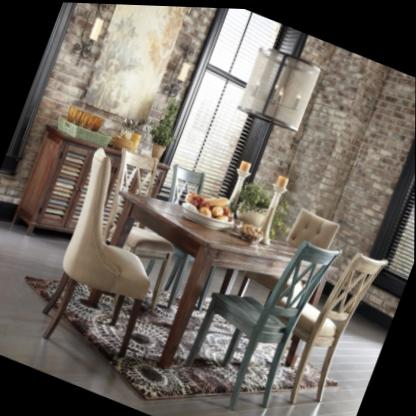Dining Table: (20, 85, 416, 416)
Wooden floor: (0, 225, 387, 416)
